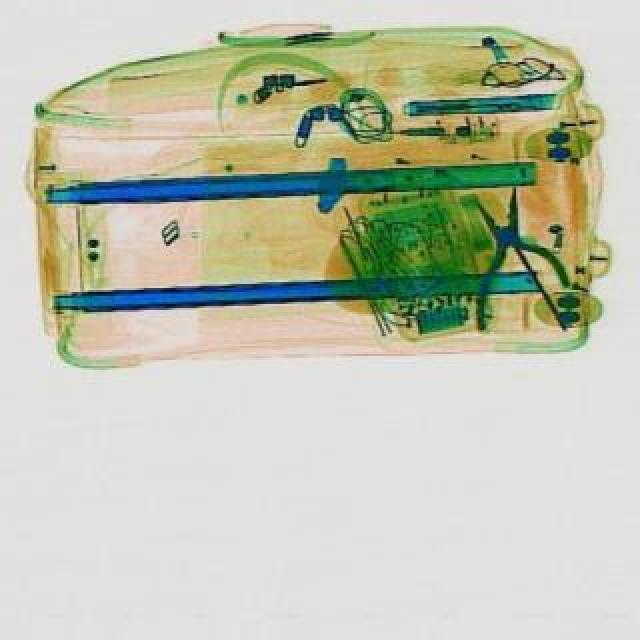wrench: (432, 176, 576, 332)
